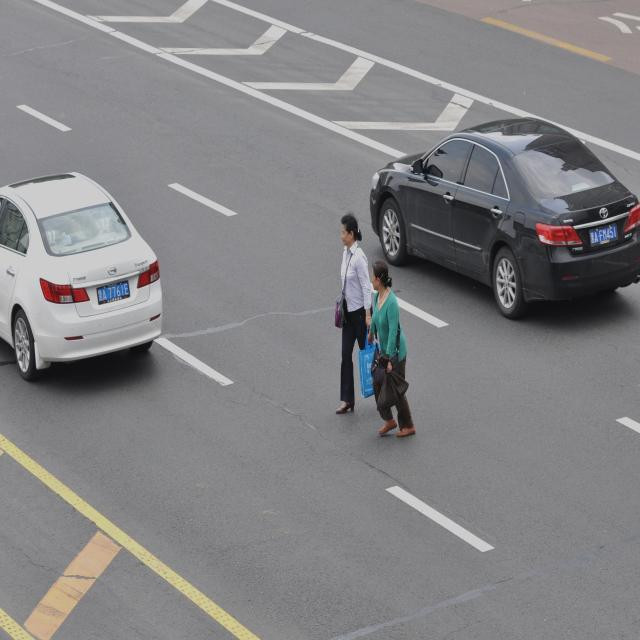non-fight: (366, 248, 418, 435), (333, 214, 374, 440)
